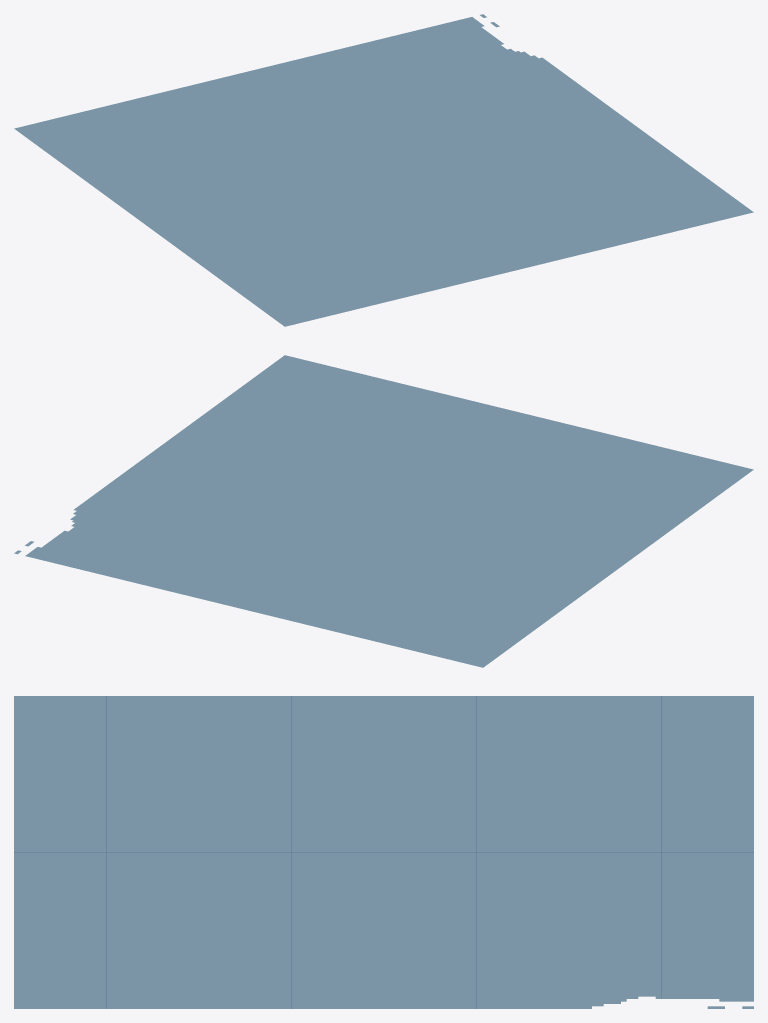
Rendered from chunk_3_5.glb.
The picture shows the model from 3 angles, top to bottom: view 1: azimuth 30°, elevation 25°; view 2: azimuth 150°, elevation 25°; view 3: azimuth 270°, elevation 25°; orthographic projection. The views are drawn at different scales.
Parts seen in each view (by area): view 1: Water_3_5; view 2: Water_3_5; view 3: Water_3_5.
Part boxes in pixels (x1=…): Water_3_5: x1=14, y1=14, x2=753, y2=326; Water_3_5: x1=14, y1=355, x2=753, y2=667; Water_3_5: x1=14, y1=696, x2=753, y2=1008.
Bounding box in the file's own units: 2048 × 1.64e-06 × 2048.
